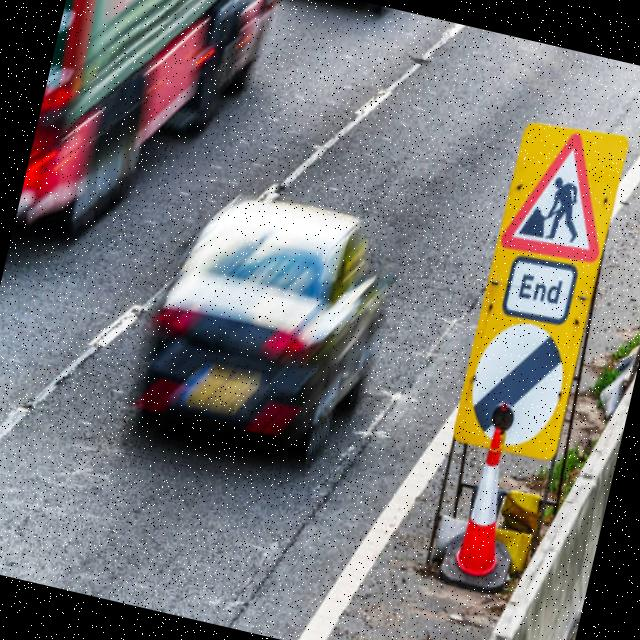road_work: (500, 120, 624, 266)
